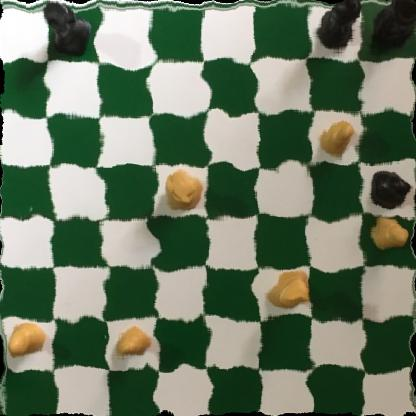black-bishop: (368, 0, 416, 50)
black-king: (312, 0, 365, 57)
black-pawn: (363, 169, 410, 209)
black-rook: (40, 0, 90, 54)
white-king: (266, 268, 313, 315)
white-pawn: (110, 323, 157, 367), (368, 211, 411, 255), (0, 319, 49, 354), (318, 119, 359, 155)
white-rook: (157, 167, 203, 211)
